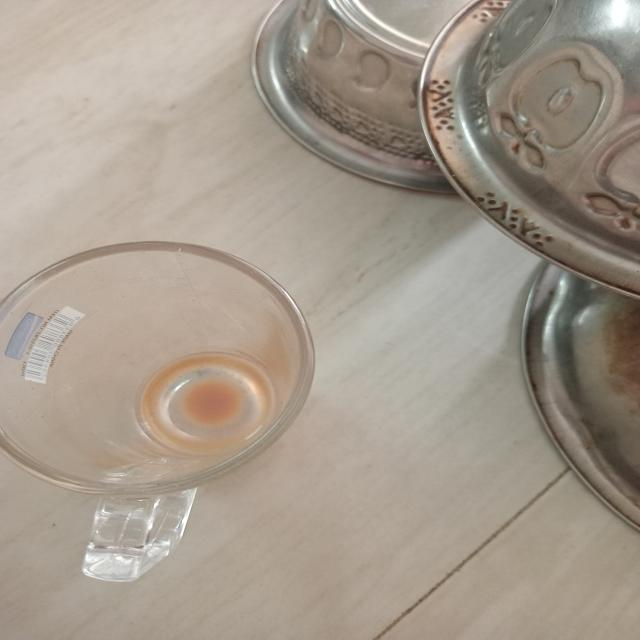glass-VX4N: (0, 239, 328, 585)
